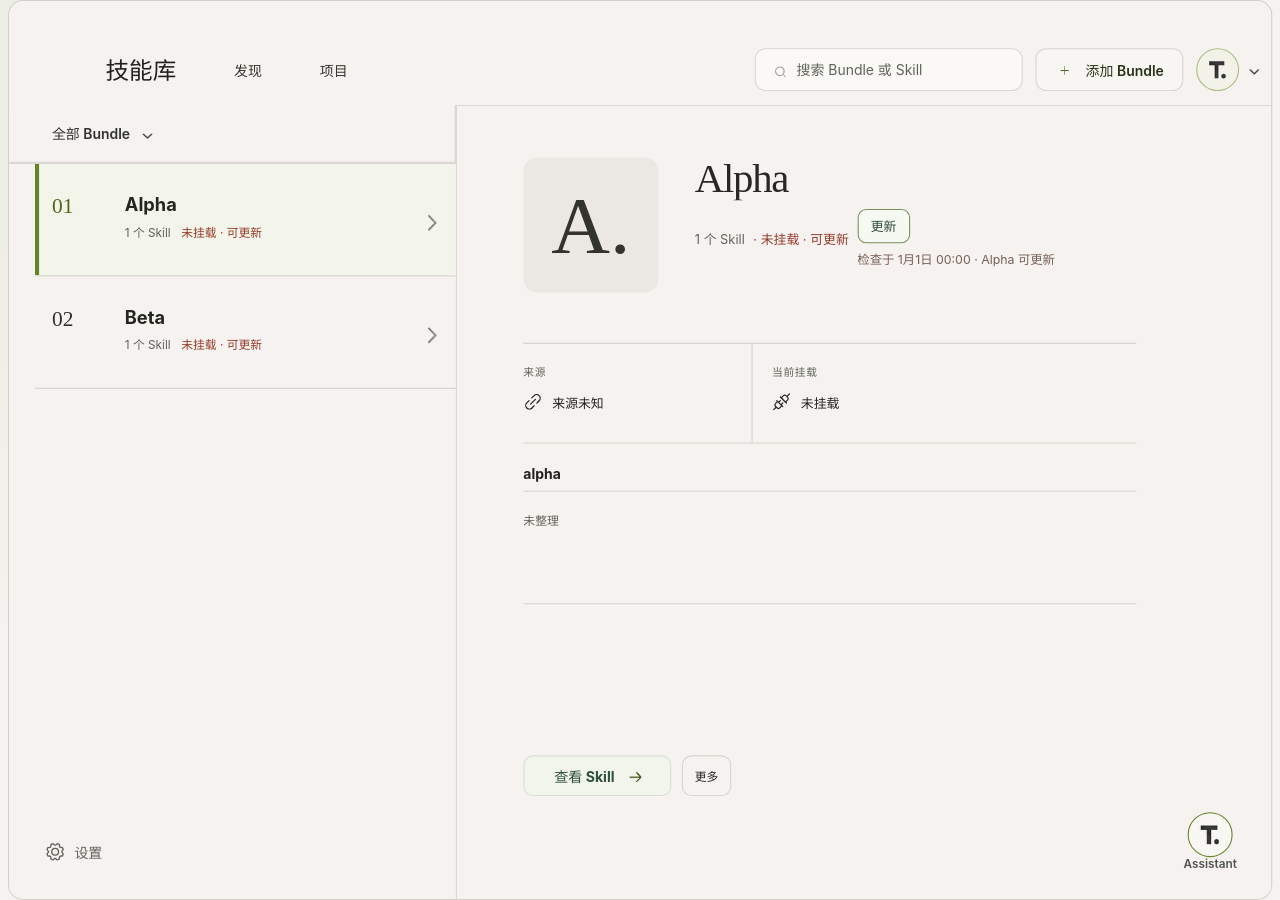
Test: 主题功能等价 › ledger 可以从技能库打开同一组维护操作
Click the heading named "更多操作" at coordinates (1229, 70), box [1196,48,1262,91]
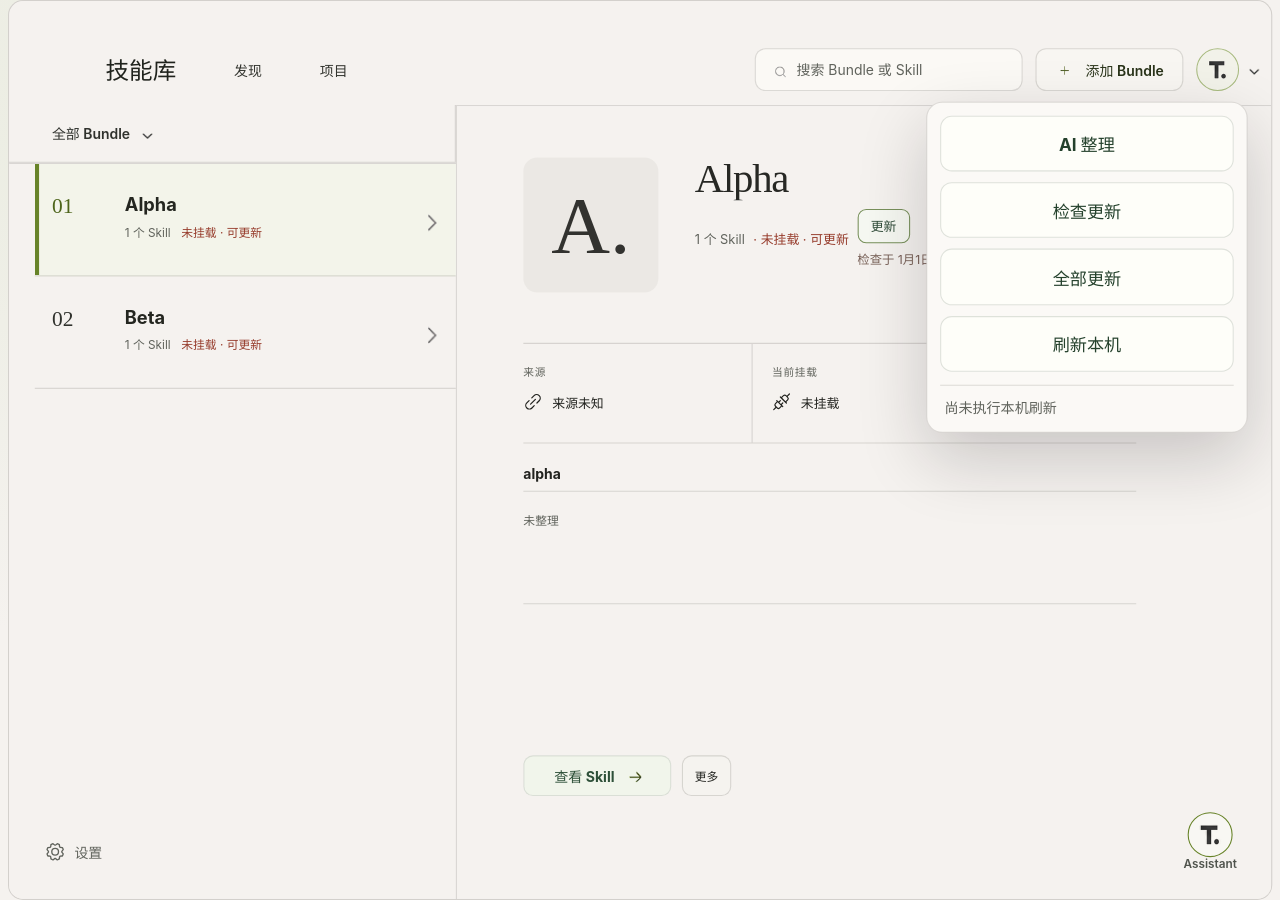
Now the button "AI 整理" is shown, box [940,116,1234,172]
Now the button "检查更新" is shown, box [940,182,1234,238]
Now the button "全部更新" is shown, box [940,249,1234,305]
